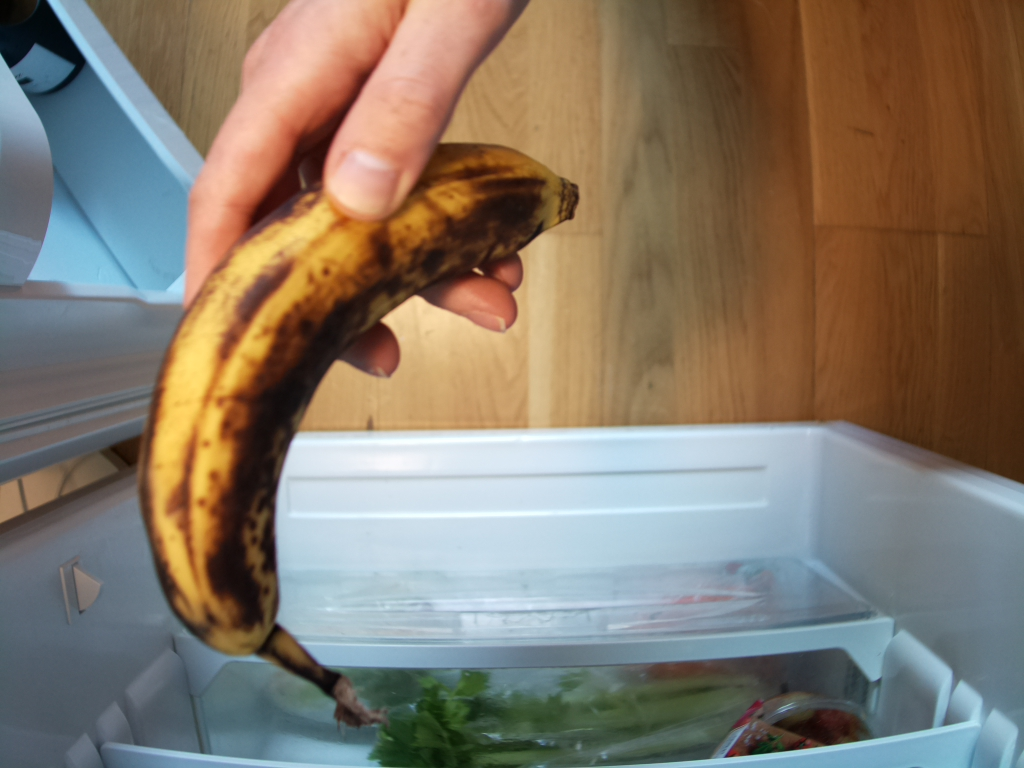banana-overripe: (133, 140, 582, 724)
